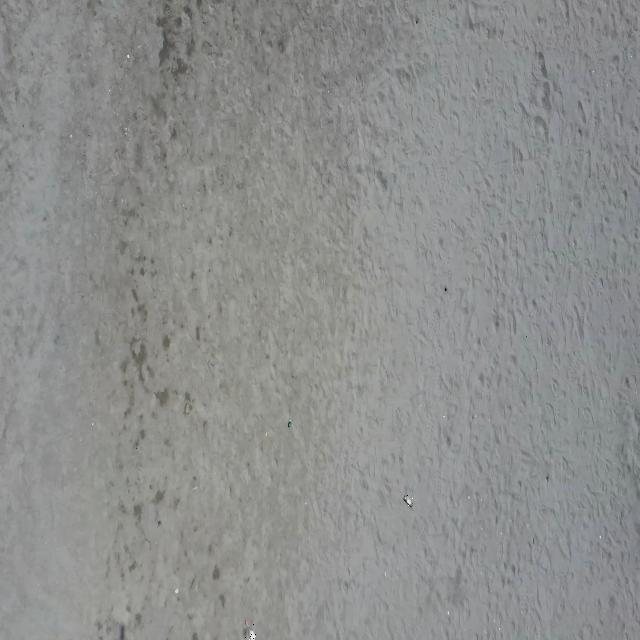glass: (245, 619, 256, 640), (403, 494, 414, 508), (288, 420, 292, 429)
